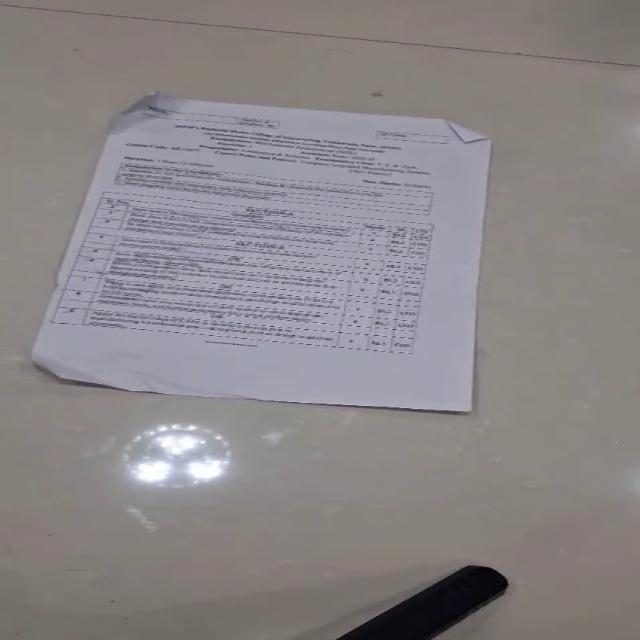paper: (29, 90, 493, 413)
